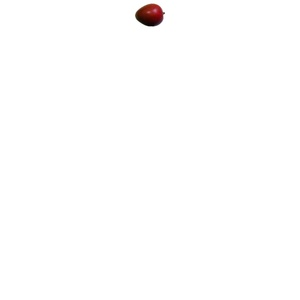manga: (134, 3, 164, 26)
